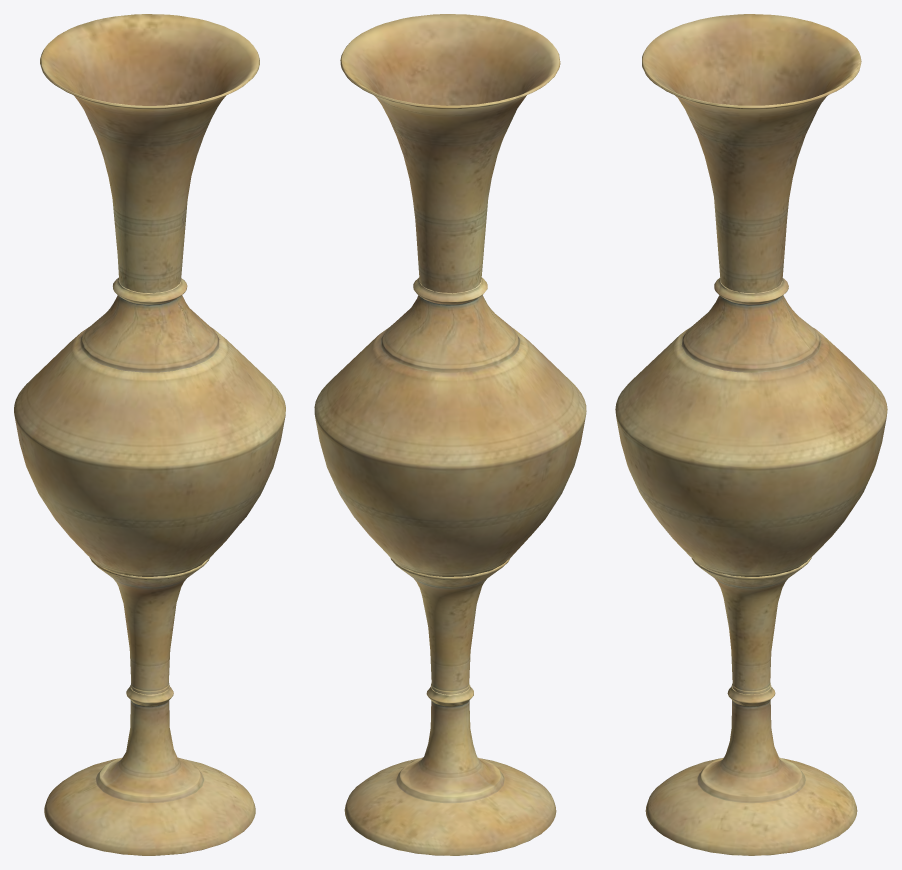
The model's file is brass_vase_01.glb.
The picture shows the model from 3 angles, left to right: view 1: azimuth 30°, elevation 25°; view 2: azimuth 150°, elevation 25°; view 3: azimuth 270°, elevation 25°; orthographic projection.
Parts seen in each view (by area): view 1: brass_vase_001; view 2: brass_vase_001; view 3: brass_vase_001.
Part boxes in pixels (x1,y1,x2,y2): brass_vase_001: (14, 14, 285, 855); brass_vase_001: (314, 14, 586, 855); brass_vase_001: (615, 14, 887, 855).
Size of the model in its own units: 0.2273 by 0.6925 by 0.2273.
1 material, 1 textured.
